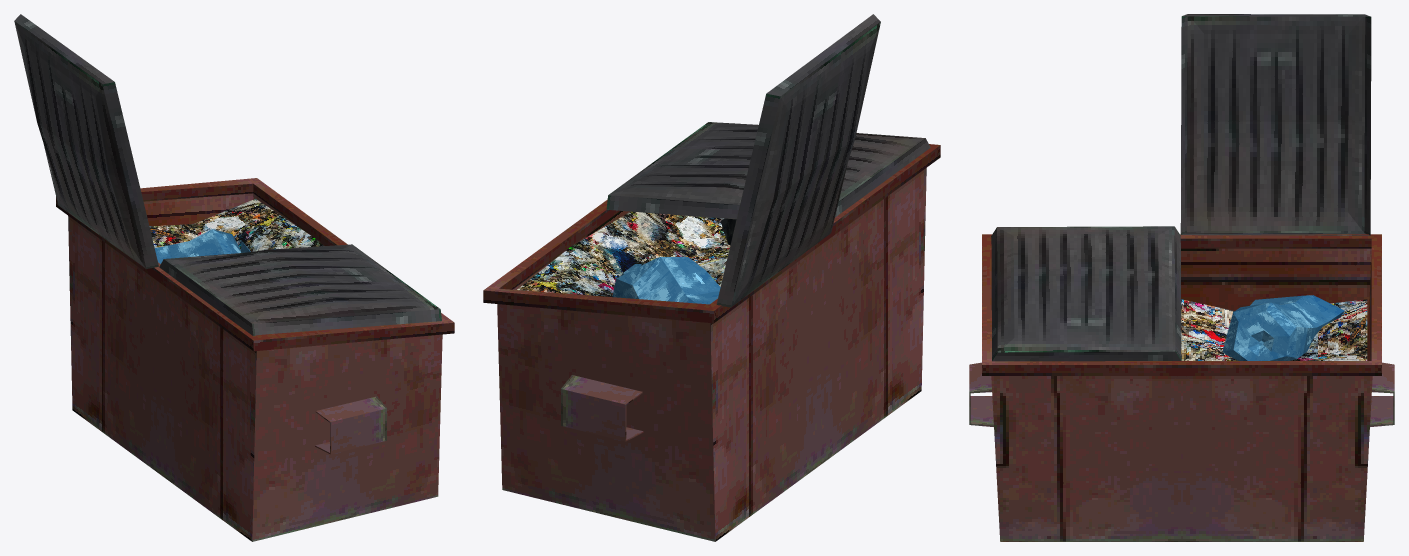
Rendered from dumpster_diagonal_full_open_red.glb.
3 views of the same model, side by side, from view 1: azimuth 30°, elevation 25°; view 2: azimuth 150°, elevation 25°; view 3: azimuth 270°, elevation 25° (orthographic). The views are drawn at different scales.
Parts seen in each view (by area): view 1: dumpster_diagonal_full_open_red; view 2: dumpster_diagonal_full_open_red; view 3: dumpster_diagonal_full_open_red.
Part boxes in pixels (<box>): dumpster_diagonal_full_open_red: <box>14,14,454,541</box>; dumpster_diagonal_full_open_red: <box>483,14,940,541</box>; dumpster_diagonal_full_open_red: <box>969,14,1394,541</box>.
Bounding box in the file's own units: 2.53 × 3.91 × 3.67.
Materials: 3 (3 with a texture image).
